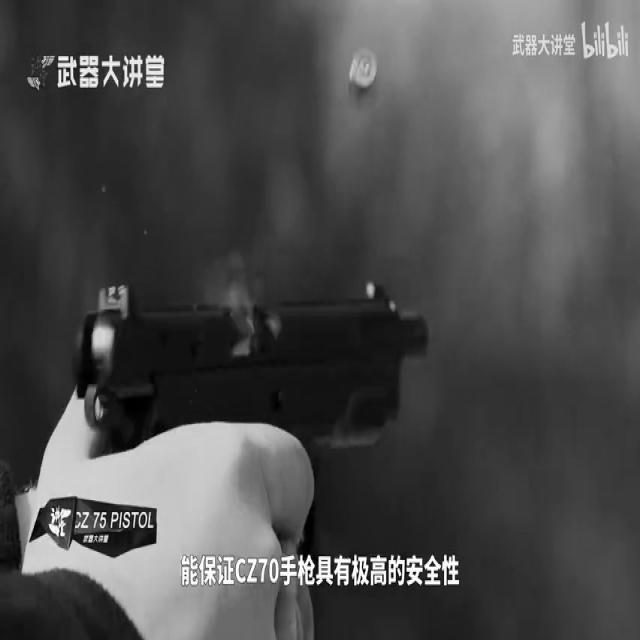Hand-Gun: (60, 282, 445, 454)
